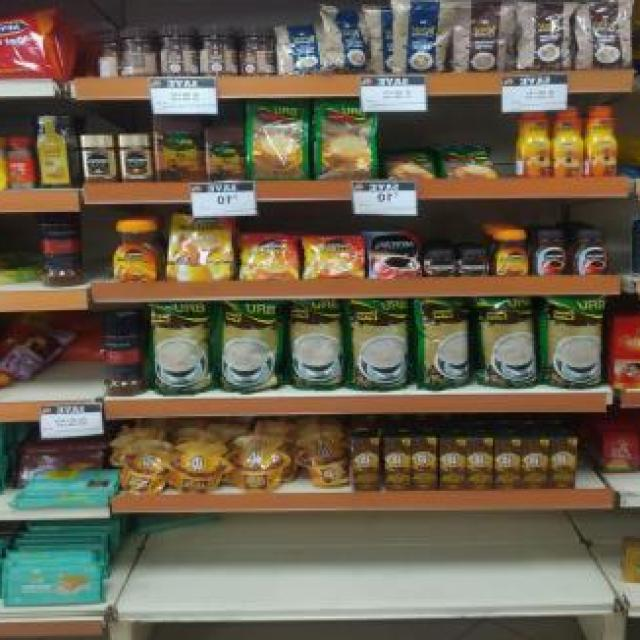Coffee: (168, 213, 229, 280), (115, 222, 160, 282), (304, 237, 364, 279), (370, 230, 420, 277), (242, 237, 296, 280), (516, 111, 550, 176), (552, 106, 582, 178), (588, 106, 614, 178), (572, 232, 610, 275), (532, 232, 569, 275), (492, 232, 527, 276), (120, 134, 151, 180), (82, 136, 110, 180), (456, 247, 489, 275), (424, 248, 456, 276)
